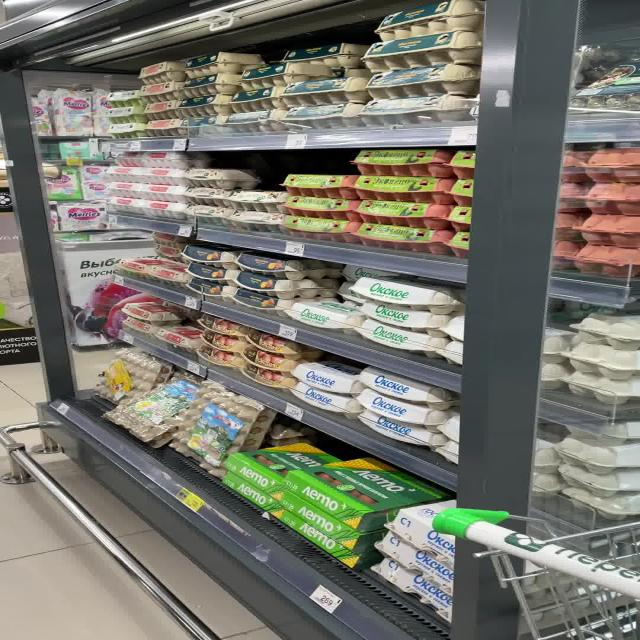egg box: (277, 459, 452, 526), (154, 380, 269, 481), (258, 493, 388, 568), (254, 480, 391, 539), (104, 373, 200, 454), (372, 547, 467, 622), (213, 437, 350, 486), (372, 522, 455, 594), (391, 496, 468, 567), (201, 453, 281, 509), (350, 403, 446, 449), (348, 381, 448, 425), (351, 271, 462, 309), (355, 364, 452, 407), (362, 66, 476, 99), (348, 293, 450, 329), (362, 37, 478, 68), (375, 1, 474, 37), (349, 218, 446, 254), (353, 315, 444, 352), (346, 146, 454, 177), (353, 170, 452, 203), (351, 195, 449, 228), (362, 100, 477, 128), (220, 264, 326, 294), (224, 248, 324, 278), (282, 376, 360, 414), (240, 323, 327, 357), (286, 360, 358, 397), (279, 46, 365, 76), (219, 282, 303, 310), (233, 356, 304, 389), (276, 171, 353, 201), (281, 104, 361, 132), (278, 192, 354, 220), (238, 339, 307, 369), (290, 296, 352, 329), (176, 54, 260, 78), (280, 80, 364, 104), (278, 212, 352, 239), (186, 165, 256, 190), (117, 299, 184, 325), (190, 307, 254, 334), (175, 241, 243, 266), (180, 201, 244, 227), (115, 254, 178, 280), (115, 310, 173, 338), (184, 339, 244, 365), (177, 78, 246, 100), (177, 256, 245, 278), (194, 327, 252, 351), (228, 206, 286, 230), (181, 272, 234, 298), (226, 88, 290, 109), (223, 112, 283, 134), (186, 185, 243, 208), (237, 66, 307, 84), (180, 115, 238, 136), (232, 187, 282, 211), (104, 194, 154, 217), (177, 94, 237, 112), (162, 320, 203, 346), (131, 181, 189, 199), (139, 166, 190, 186), (140, 152, 198, 168), (140, 198, 184, 218), (133, 62, 177, 82), (131, 81, 175, 100), (135, 99, 177, 118), (97, 90, 145, 106), (102, 163, 147, 180), (135, 119, 177, 136), (96, 106, 143, 120), (102, 180, 143, 196), (96, 123, 143, 136)
